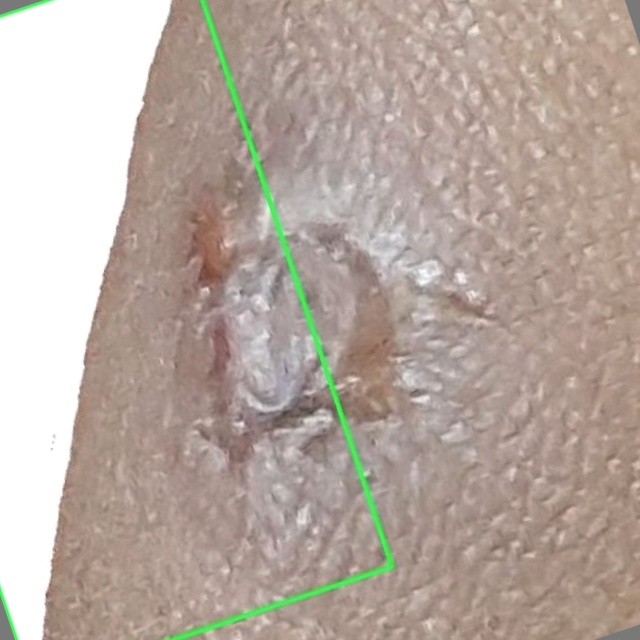Contact Dermatitis: (0, 0, 392, 639)
